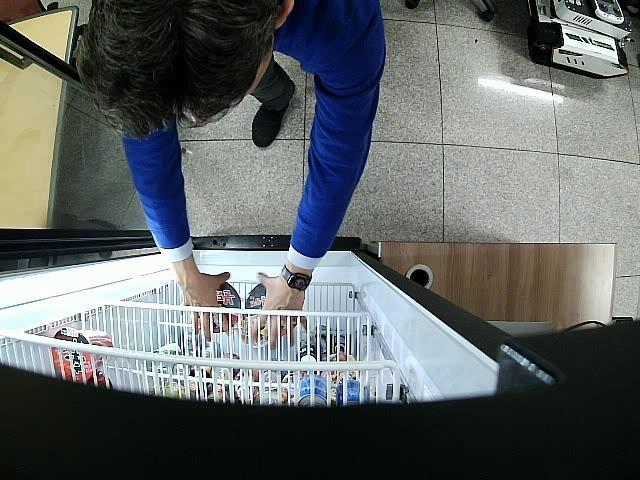07_buldak_L: (197, 281, 241, 334), (242, 284, 270, 348)
